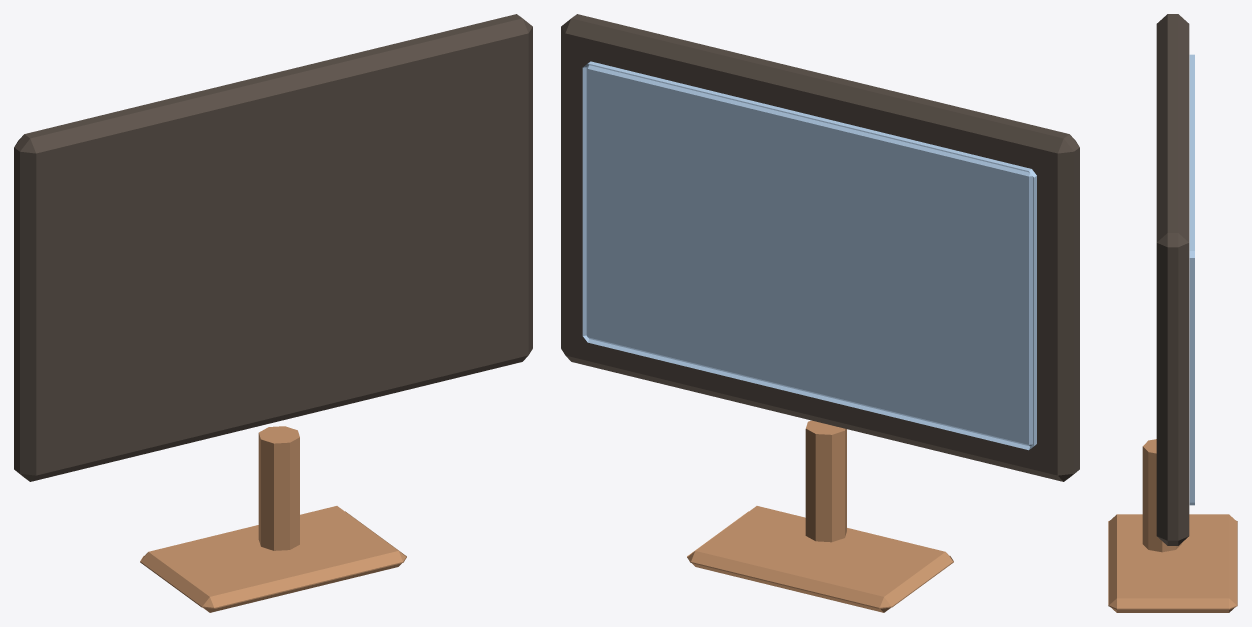
Rendered from monitor.glb.
3 renders of one model, left to right at view 1: azimuth 30°, elevation 25°; view 2: azimuth 150°, elevation 25°; view 3: azimuth 270°, elevation 25°, orthographic. The views are drawn at different scales.
Parts seen in each view (by area): view 1: Monitor; view 2: Monitor; view 3: Monitor.
Part boxes in pixels (bbox=[...]): Monitor: bbox=[14, 14, 532, 612]; Monitor: bbox=[561, 14, 1079, 612]; Monitor: bbox=[1108, 14, 1237, 612].
Size of the model in its own units: 0.5 by 0.4575 by 0.12.
